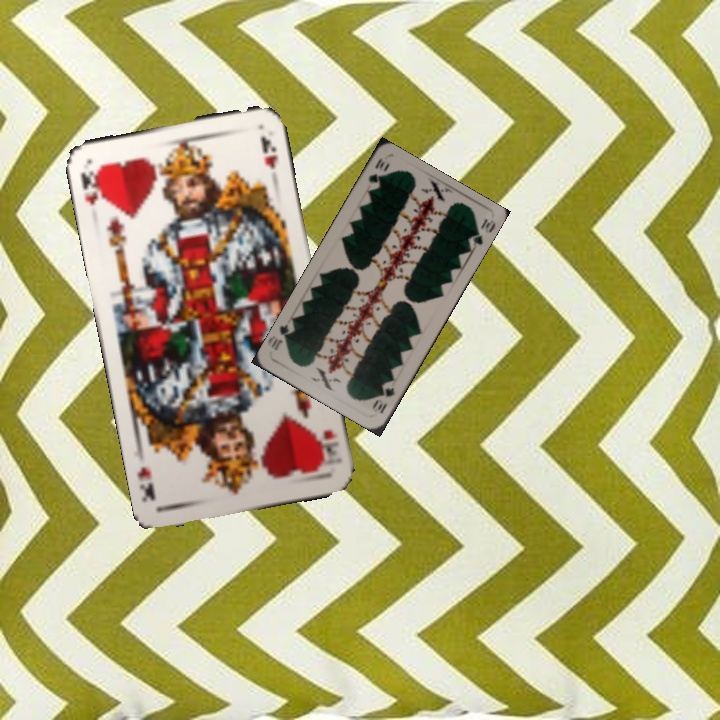G10: (368, 383, 398, 416), (364, 154, 392, 186)
HK: (77, 165, 106, 209), (316, 426, 341, 465)
